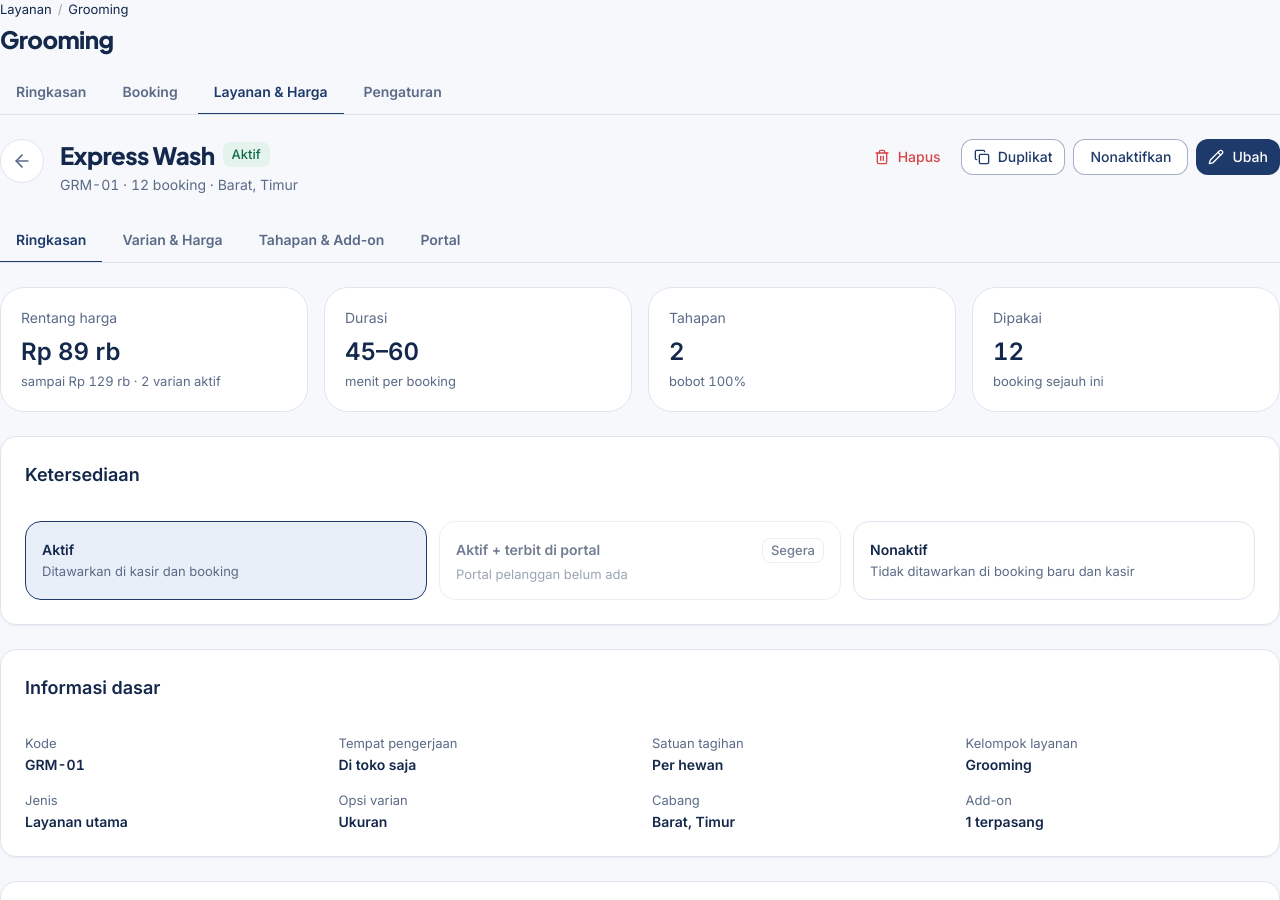
it: GroomingServiceDetailScreen › creates no copy when the Duplikat dialog is cancelled
Click the button "Duplikat": {"x": 1013, "y": 157} [961, 139, 1065, 175]
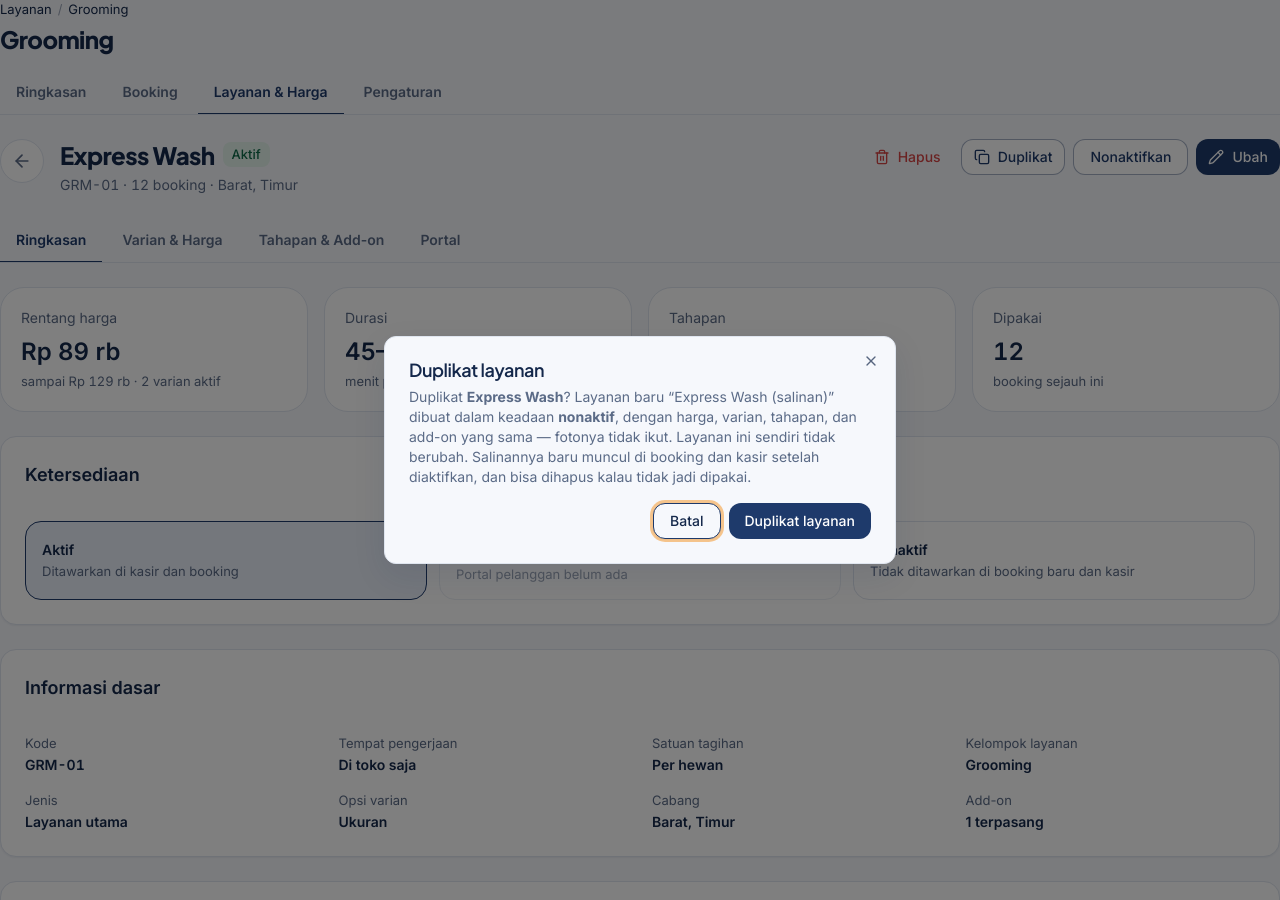
Click the button "Batal": {"x": 687, "y": 521} [653, 503, 720, 539]
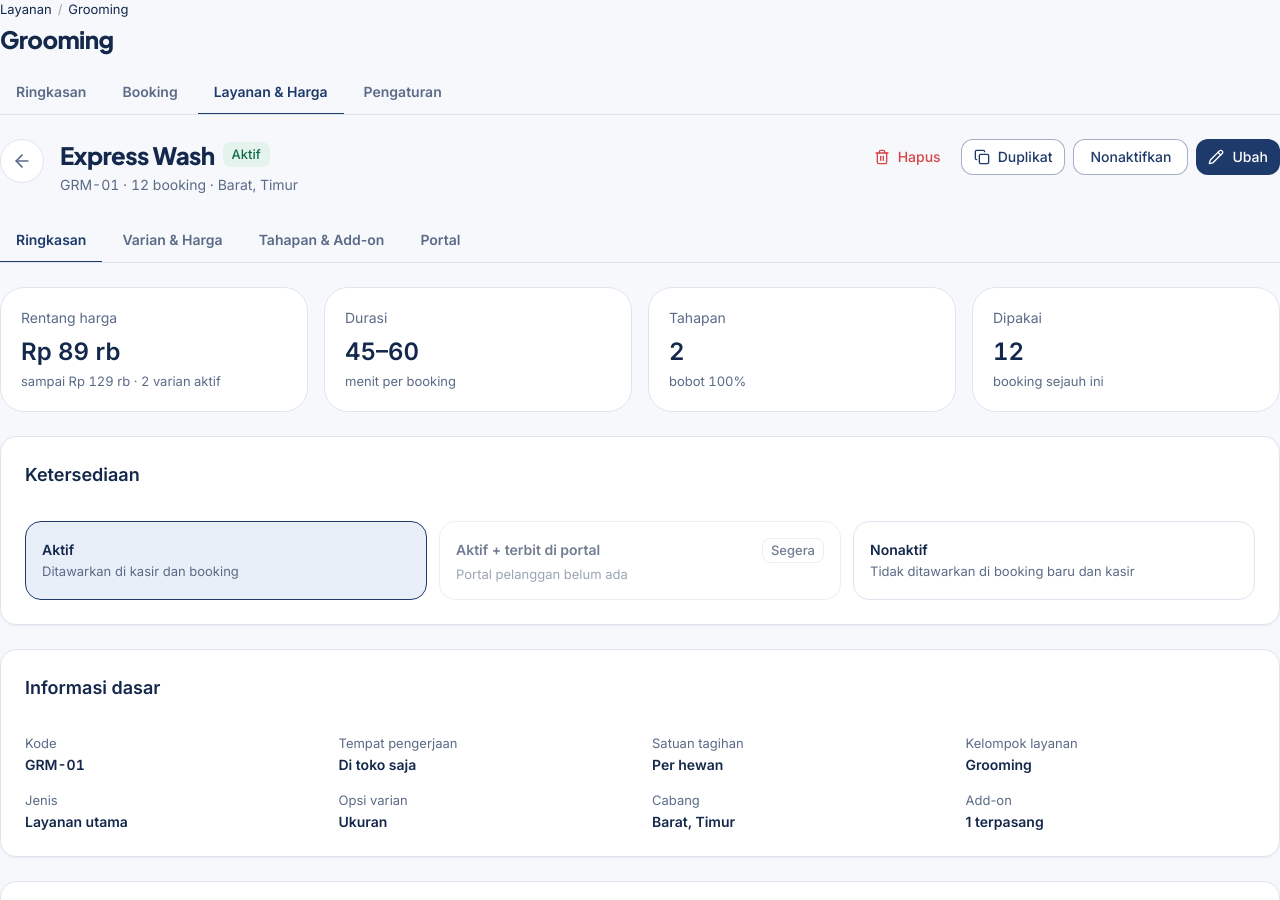
expect the dialog is gone: met
